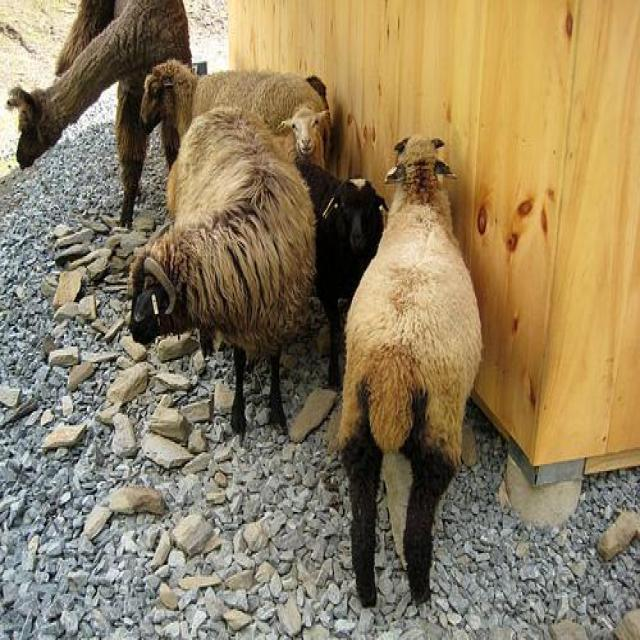Sheep: (335, 149, 489, 616), (128, 110, 312, 446), (302, 160, 390, 392), (138, 58, 330, 159), (273, 108, 329, 170)
